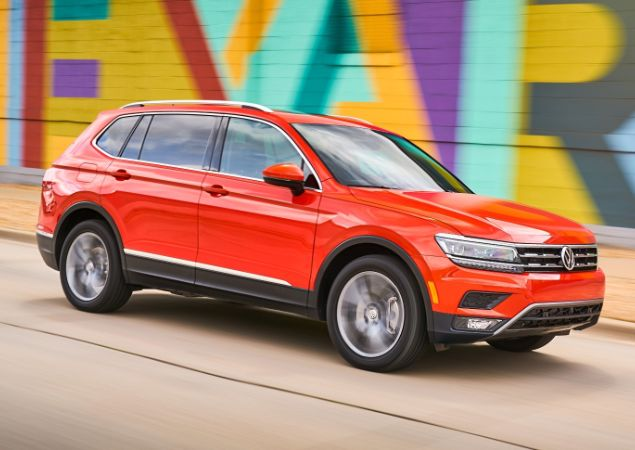Carro: (32, 93, 610, 386)
